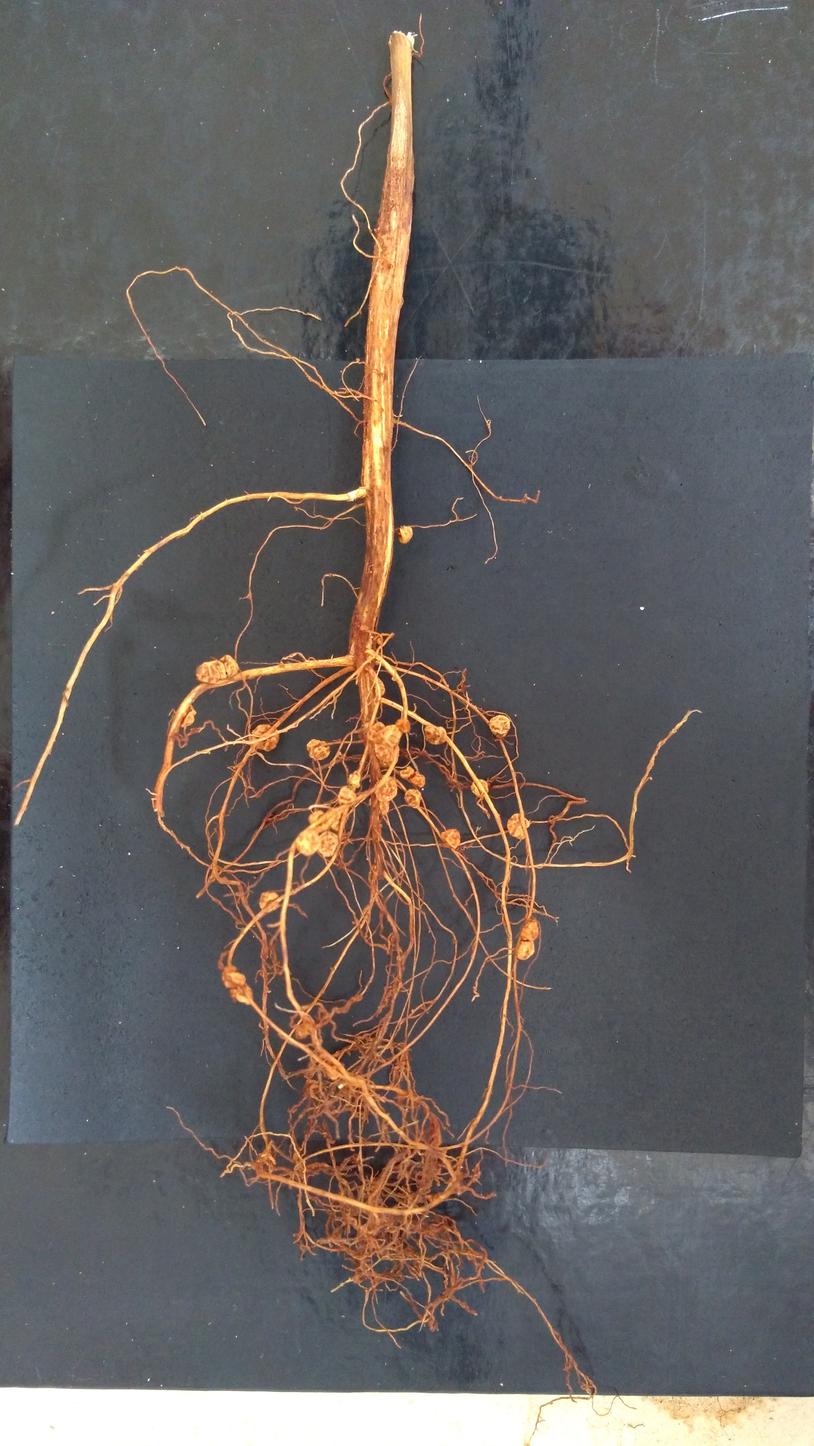nodule: (373, 724, 401, 764), (249, 723, 280, 754), (505, 810, 533, 841), (194, 659, 227, 684), (295, 828, 322, 858), (315, 829, 340, 859), (373, 775, 399, 802), (305, 738, 333, 763), (219, 964, 246, 989), (421, 724, 450, 747), (487, 714, 512, 740), (326, 805, 349, 832), (256, 889, 281, 913), (178, 703, 199, 731), (439, 826, 463, 849), (377, 744, 400, 767), (514, 938, 536, 962), (218, 654, 239, 679), (402, 788, 424, 811), (231, 983, 253, 1006), (520, 917, 540, 942), (469, 777, 490, 798), (337, 785, 358, 805), (396, 524, 415, 546), (367, 721, 386, 742), (407, 771, 427, 789), (371, 674, 386, 697), (306, 809, 327, 825), (347, 770, 362, 790), (394, 718, 413, 733), (399, 765, 415, 781), (378, 798, 392, 816)
